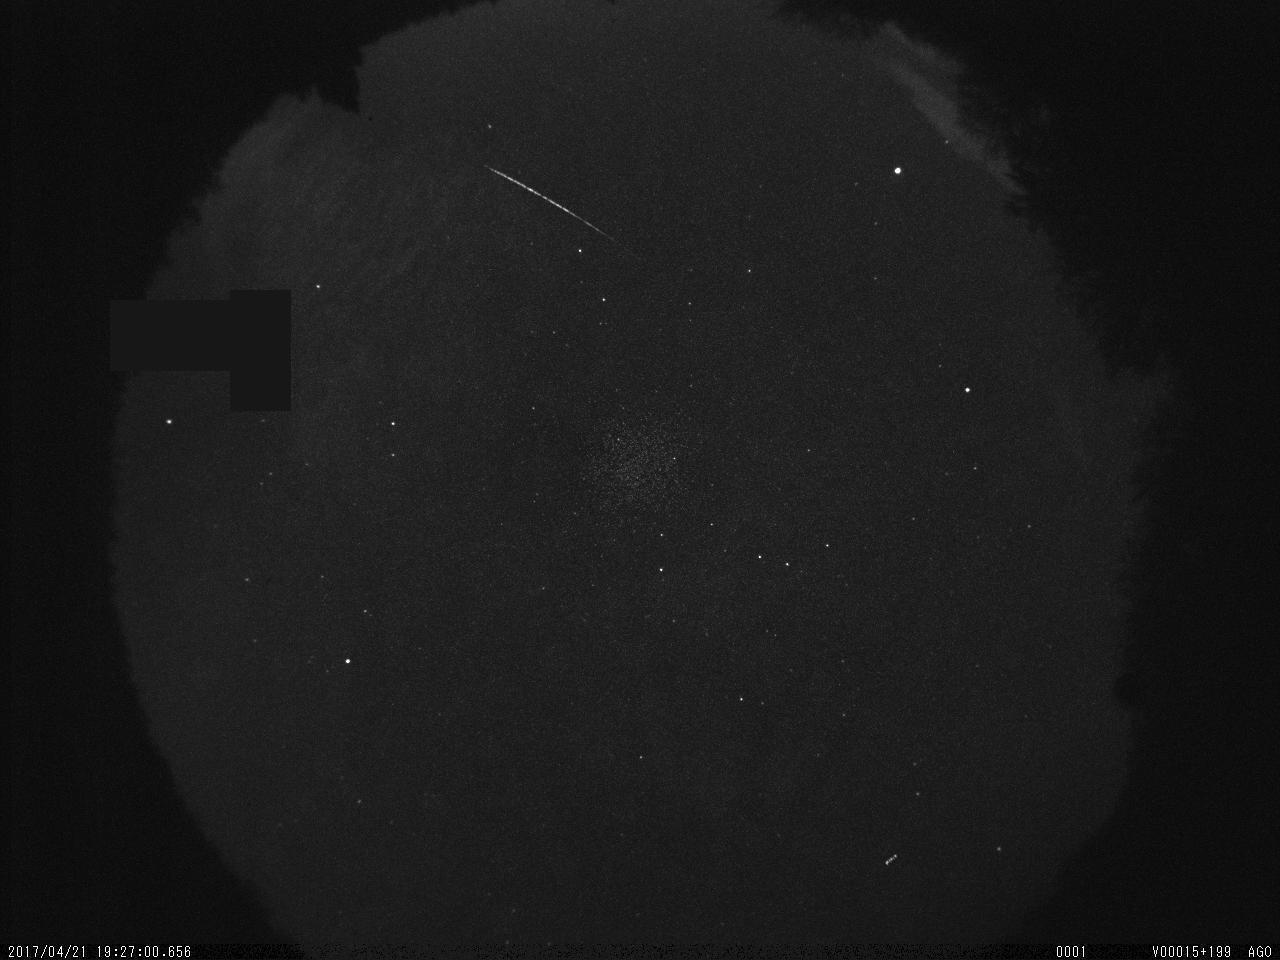Meteor: (479, 159, 650, 271)
